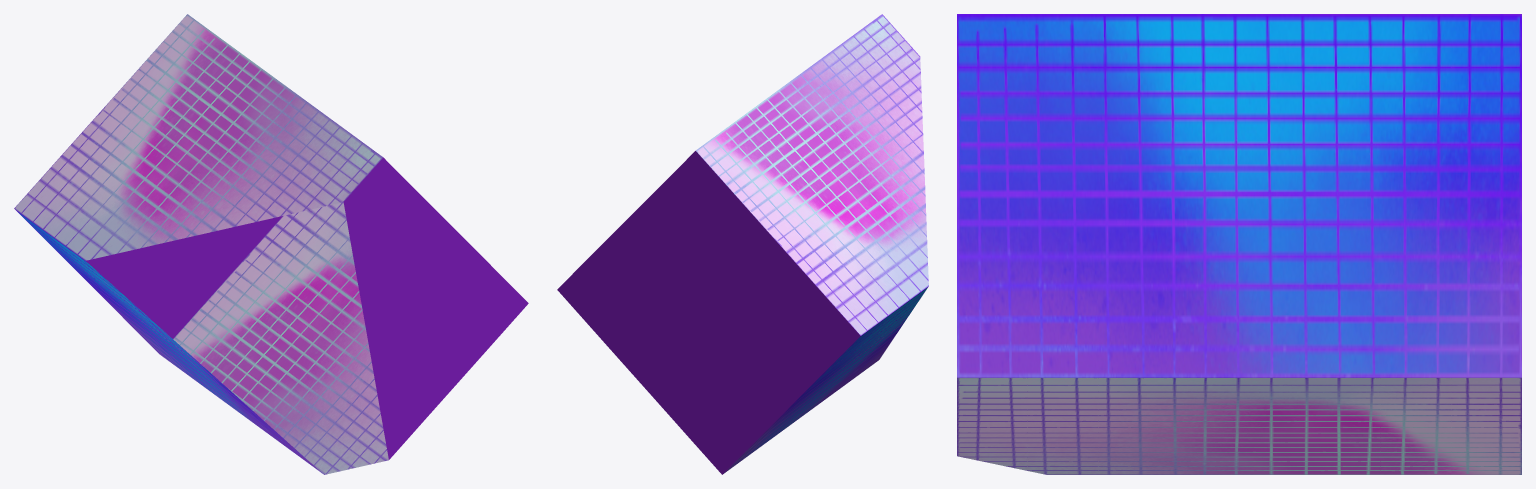
Rendered from Build_B_Bot.obj.
3 renders of one model, left to right at view 1: azimuth 30°, elevation 25°; view 2: azimuth 150°, elevation 25°; view 3: azimuth 270°, elevation 25°, orthographic. The views are drawn at different scales.
Parts seen in each view (by area): view 1: Build_B_Bot; view 2: Build_B_Bot; view 3: Build_B_Bot.
Boxes of the visible parts, bbox=[...] form: Build_B_Bot: bbox=[14, 14, 528, 474]; Build_B_Bot: bbox=[557, 14, 928, 474]; Build_B_Bot: bbox=[957, 14, 1521, 474].
Size of the model in its own units: 0.372 by 0.3719 by 0.396.
1 material, 1 textured.
